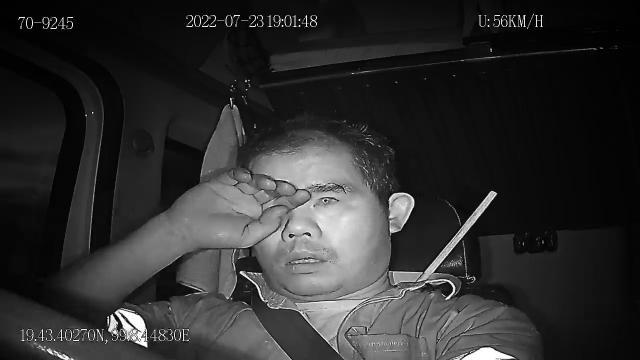SafeDriving: (310, 189, 346, 210)
Seatbelt: (250, 287, 350, 355)
